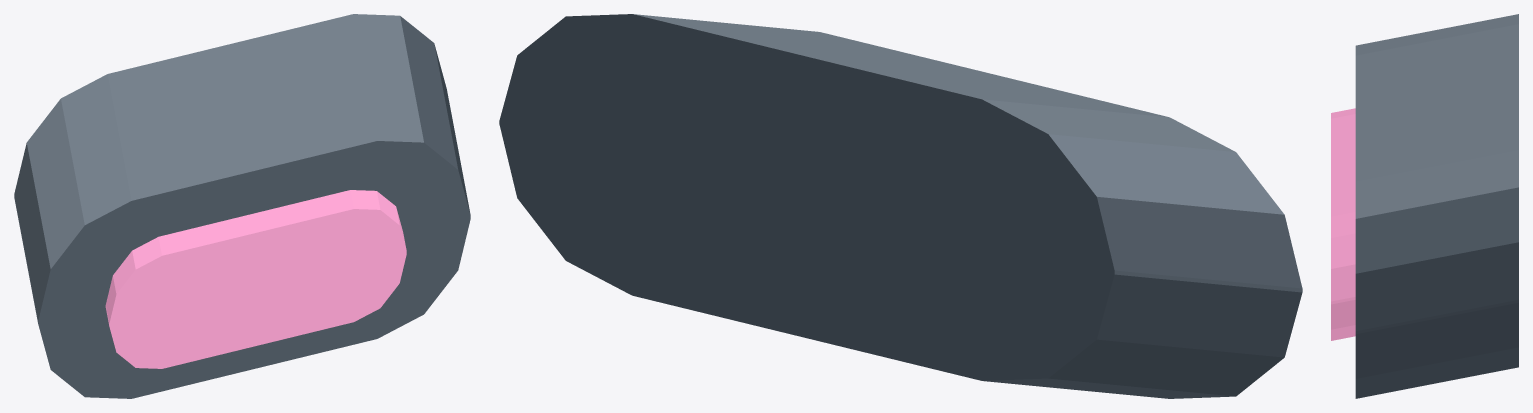
Rendered from Signal_Lamp3D.gltf.
The picture shows the model from 3 angles, left to right: view 1: azimuth 30°, elevation 25°; view 2: azimuth 150°, elevation 25°; view 3: azimuth 270°, elevation 25°; orthographic projection. The views are drawn at different scales.
Visible parts, largest first — view 1: Signal_Lamp3D_baked; view 2: Signal_Lamp3D_baked; view 3: Signal_Lamp3D_baked.
Boxes of the visible parts, x1,y1,x2,y2 form: Signal_Lamp3D_baked: [14, 14, 470, 398]; Signal_Lamp3D_baked: [499, 14, 1302, 398]; Signal_Lamp3D_baked: [1331, 14, 1518, 398].
Size of the model in its own units: 0.36 by 0.18 by 0.115.
